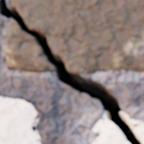brick: (0, 98, 40, 143)
broken_brick: (12, 0, 143, 75), (7, 19, 55, 72), (93, 116, 128, 143), (128, 117, 143, 140)
crack: (0, 0, 143, 143)
